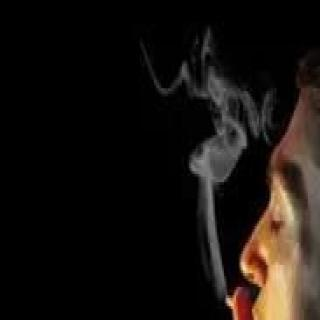smoke: (160, 56, 268, 178)
